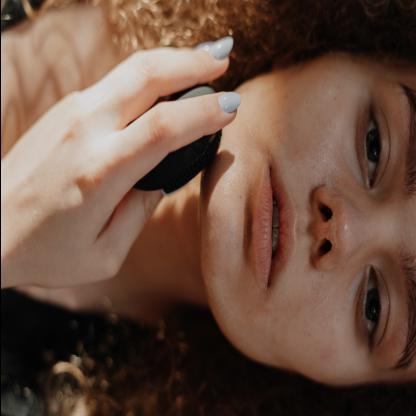Eye: (356, 95, 390, 192), (353, 265, 389, 356)
Mouth: (248, 157, 297, 294)
Nose: (310, 183, 382, 272)
